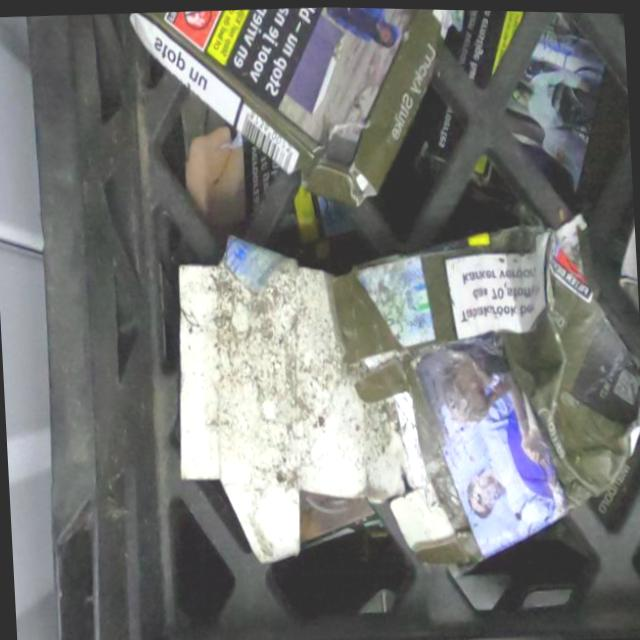Paper: (160, 192, 640, 591), (117, 2, 476, 223), (406, 7, 614, 203)
